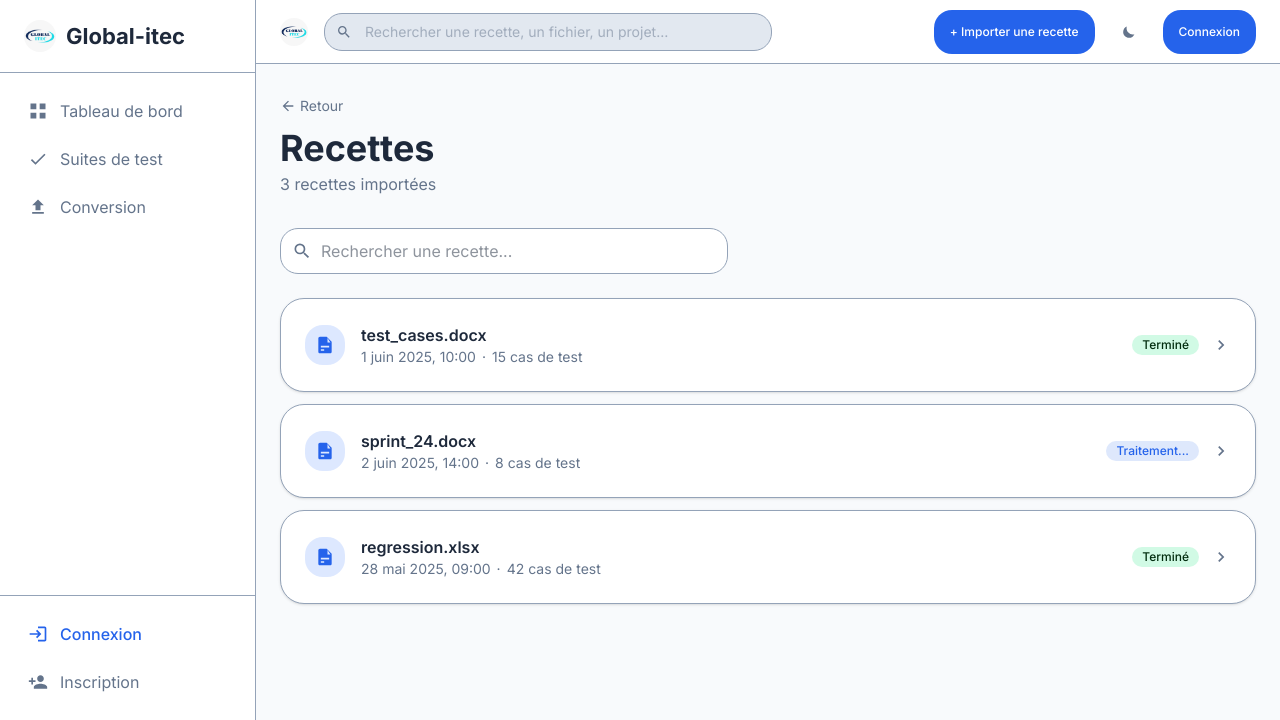
Scenario: RecipesPage › filters jobs by search
Expected: the text "test_cases.docx" is shown, [361,325,486,345]
In the search field with placeholder "Rechercher une recette...": x=504, y=251 [280,228,728,274], type "sprint"
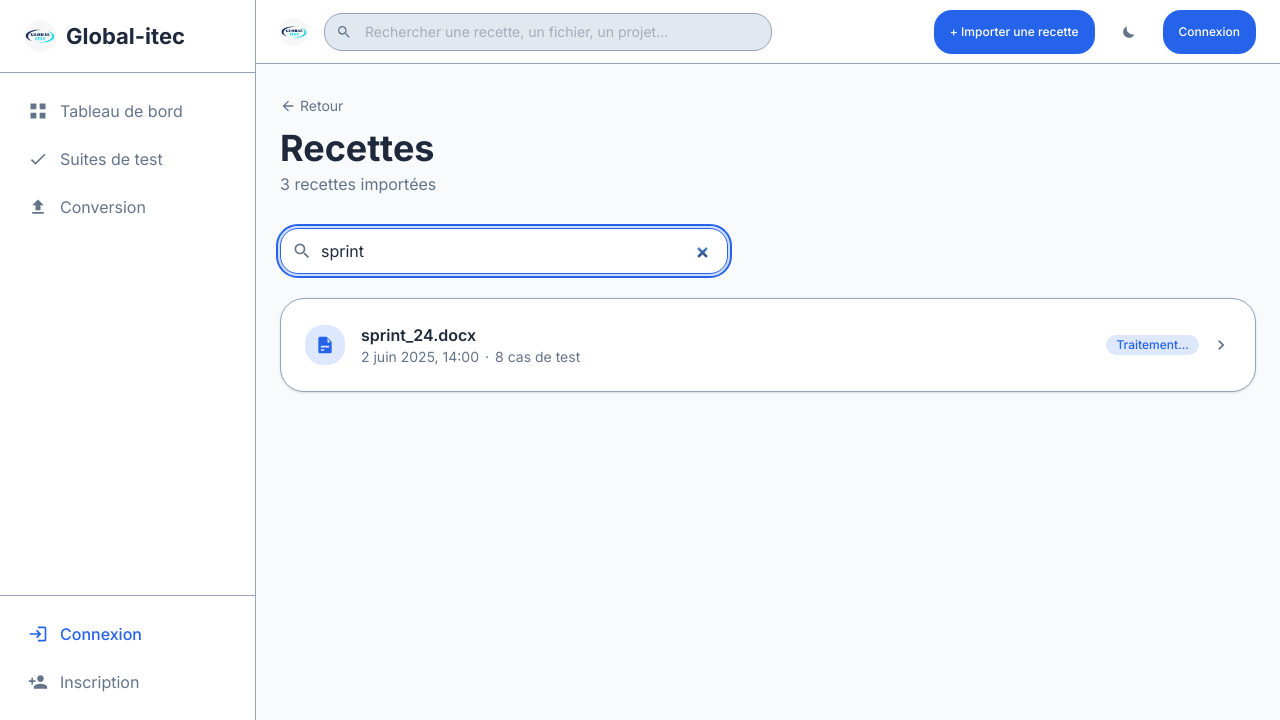
Expected: the text "sprint_24.docx" is shown, [361,325,476,345]
Expected: the link "test_cases.docx" is gone
